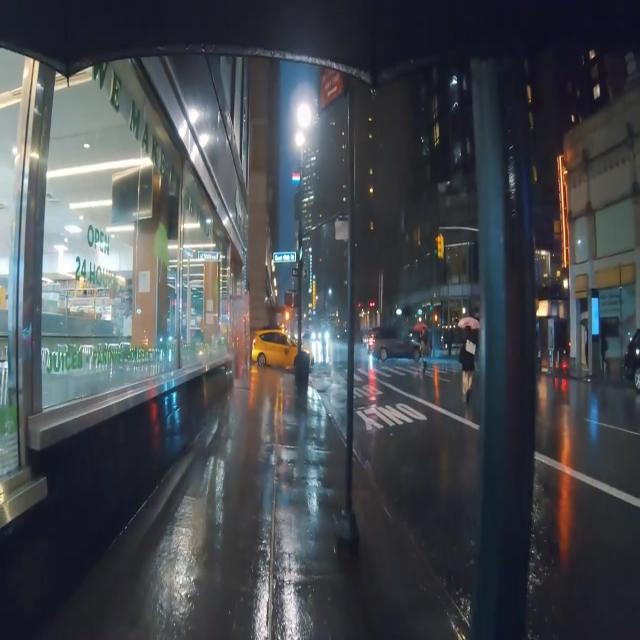Car: (249, 326, 310, 368), (369, 325, 416, 362)
